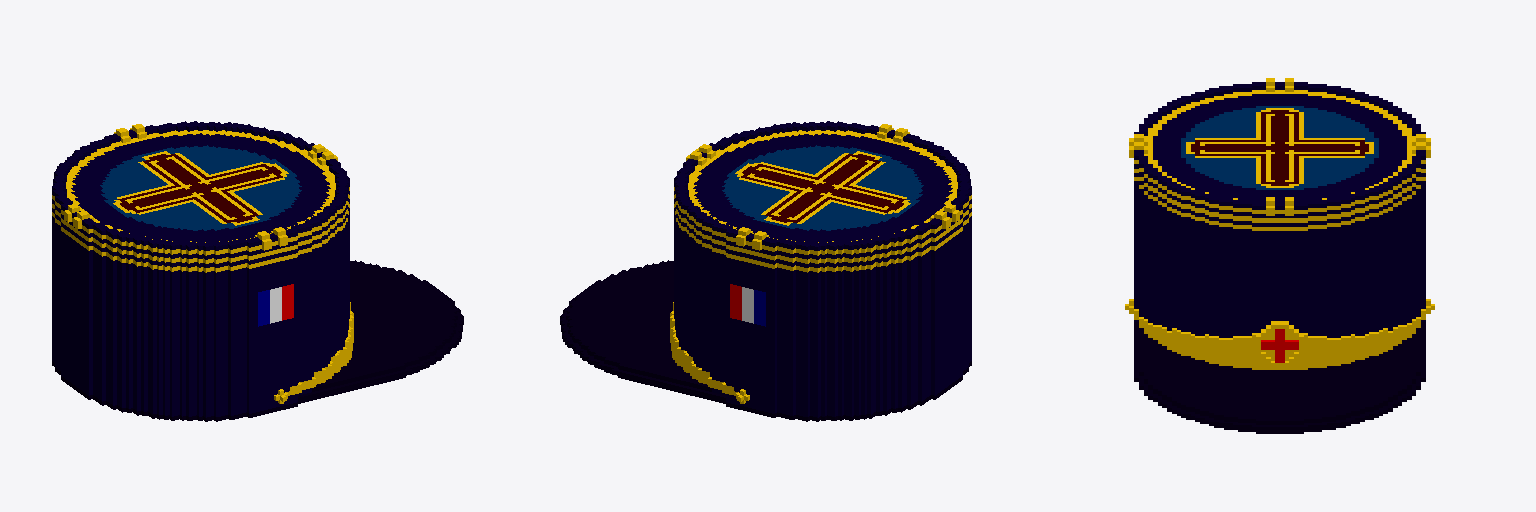
The picture shows the model from 3 angles: view 1: azimuth 30°, elevation 25°; view 2: azimuth 150°, elevation 25°; view 3: azimuth 270°, elevation 25°; orthographic projection.
Parts seen in each view (by area): view 1: object 1; view 2: object 1; view 3: object 1.
Boxes of the visible parts, x1,y1,x2,y2 form: object 1: [52, 121, 463, 421]; object 1: [560, 121, 971, 421]; object 1: [1125, 78, 1434, 433].
Bounding box in the file's own units: 9.1 × 4.2 × 6.6.
1 materials, 1 textured.